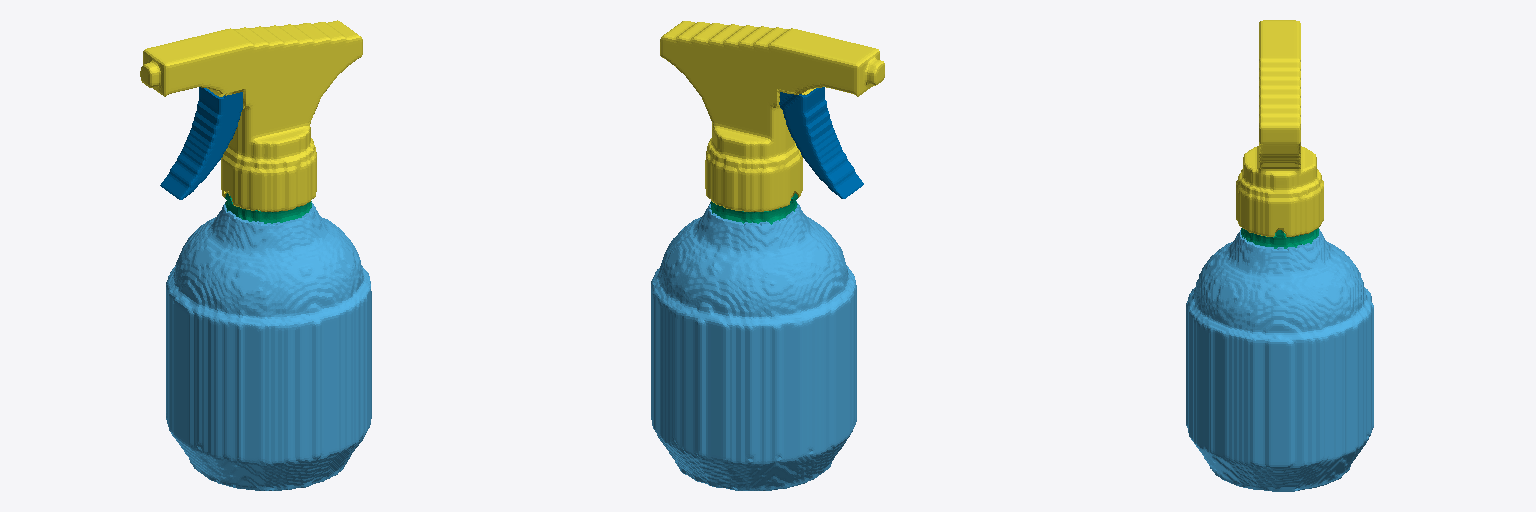
URDF robot description (object):
<?xml version='1.0' encoding='utf-8'?>
<robot name="object">
  <link name="base">
    <inertial>
      <origin xyz="0 0 0" rpy="0 0 0" />
      <mass value="0.0" />
      <inertia ixx="0" ixy="0" ixz="0" iyy="0" iyz="0" izz="0" />
    </inertial>
  </link>
  <link name="link_1">
    <visual>
      <origin xyz="0 0 0" rpy="0 0 0" />
      <geometry>
        <mesh filename="meshes/link_1.stl" />
      </geometry>
    </visual>
    <collision>
      <origin xyz="0 0 0" rpy="0 0 0" />
      <geometry>
        <mesh filename="meshes/link_1.stl" />
      </geometry>
    </collision>
    <inertial>
      <origin xyz="0.00927191101 0.00519365321 -0.294334522" rpy="0 0 0" />
      <mass value="320.751542" />
      <inertia ixx="28.2878396" ixy="-0.0024238929" ixz="0.000655347799" iyy="28.2993898" iyz="0.00242845898" izz="18.3615523" />
    </inertial>
  </link>
  <link name="link_2">
    <visual>
      <origin xyz="-0.0126322422 -0.00322829818 -0.234629657" rpy="0 0 0" />
      <geometry>
        <mesh filename="meshes/link_2.stl" />
      </geometry>
    </visual>
    <collision>
      <origin xyz="-0.0126322422 -0.00322829818 -0.234629657" rpy="0 0 0" />
      <geometry>
        <mesh filename="meshes/link_2.stl" />
      </geometry>
    </collision>
    <inertial>
      <origin xyz="-0.00313882604 0.0014547233 0.111209139" rpy="0 0 0" />
      <mass value="3.5261946" />
      <inertia ixx="-0.054600168" ixy="-0.000405301673" ixz="-0.000927668297" iyy="-0.0491562504" iyz="0.000572802463" izz="0.0363497447" />
    </inertial>
  </link>
  <link name="link_3">
    <visual>
      <origin xyz="-0.000914192882 -0.00463437579 -0.288159222" rpy="0 0 0" />
      <geometry>
        <mesh filename="meshes/link_3.stl" />
      </geometry>
    </visual>
    <collision>
      <origin xyz="-0.000914192882 -0.00463437579 -0.288159222" rpy="0 0 0" />
      <geometry>
        <mesh filename="meshes/link_3.stl" />
      </geometry>
    </collision>
    <inertial>
      <origin xyz="-0.0122739234 0.000762862601 0.721552833" rpy="0 0 0" />
      <mass value="44.1368569" />
      <inertia ixx="-21.6286972" ixy="-0.00225779096" ixz="-0.292787363" iyy="-20.6822435" iyz="-0.0196120291" izz="1.33384524" />
    </inertial>
  </link>
  <link name="link_4">
    <visual>
      <origin xyz="0.133148137 -0.00429857535 -0.754045781" rpy="0 0 0" />
      <geometry>
        <mesh filename="meshes/link_4.stl" />
      </geometry>
    </visual>
    <collision>
      <origin xyz="0.133148137 -0.00429857535 -0.754045781" rpy="0 0 0" />
      <geometry>
        <mesh filename="meshes/link_4.stl" />
      </geometry>
    </collision>
    <inertial>
      <origin xyz="-0.0313756519 -0.0037223292 -1.4922819" rpy="0 0 0" />
      <mass value="7.29812602" />
      <inertia ixx="-205.235417" ixy="-0.000248261698" ixz="1.6288114" iyy="-205.233845" iyz="-0.0134298031" izz="0.0182190285" />
    </inertial>
  </link>
  <joint name="joint_1_2" type="revolute">
    <parent link="link_1" />
    <child link="link_2" />
    <origin xyz="0.0126322422 0.00322829818 0.234629657" rpy="0 0 0" />
    <axis xyz="0.00248929231 -0.00613485982 -0.999978083" />
    <limit lower="-1.57" upper="1.57" effort="10.0" velocity="1.0" />
  </joint>
  <joint name="joint_2_3" type="prismatic">
    <parent link="link_2" />
    <child link="link_3" />
    <origin xyz="-0.0117180493 0.00140607762 0.0535295645" rpy="0 0 0" />
    <axis xyz="-0.0175181555 0.0112050161 -0.999783758" />
    <limit lower="-1.57" upper="1.57" effort="10.0" velocity="1.0" />
  </joint>
  <joint name="joint_3_4" type="revolute">
    <parent link="link_3" />
    <child link="link_4" />
    <origin xyz="-0.13406233 -0.000335800439 0.465886559" rpy="0 0 0" />
    <axis xyz="-0.00731357984 -0.99987239 0.014202626" />
    <limit lower="-1.57" upper="1.57" effort="10.0" velocity="1.0" />
  </joint>
  <joint name="base_to_1" type="fixed">
    <parent link="base" />
    <child link="link_1" />
    <origin xyz="0 0 0" rpy="0 0 0" />
  </joint>
</robot>

--- Facts derived from the render (not from the file) ---
Views: 3 orthographic renders of the robot side by side, from view 1: azimuth 30°, elevation 25°; view 2: azimuth 150°, elevation 25°; view 3: azimuth 270°, elevation 25°.
Robot: object — 5 links, 4 joints (2 revolute, 1 prismatic, 1 fixed); root link base; default pose: all joints at 0.
Links seen in each view (by area): view 1: link_1, link_3, link_4, link_2; view 2: link_1, link_3, link_4, link_2; view 3: link_1, link_3, link_2.
Boxes of the visible links, <box> form: link_1: <box>166,202,371,490</box>; link_3: <box>140,20,362,211</box>; link_4: <box>160,87,242,199</box>; link_2: <box>225,193,311,223</box>; link_1: <box>651,201,856,490</box>; link_3: <box>660,21,884,211</box>; link_4: <box>779,87,863,198</box>; link_2: <box>710,193,797,224</box>; link_1: <box>1186,229,1373,491</box>; link_3: <box>1236,20,1323,236</box>; link_2: <box>1241,228,1318,248</box>.
Size in the robot's own frame: 0.8603 by 0.7197 by 1.65 metres.
Meshes: 4 distinct files referenced, 4 mesh visuals loaded (4 binary STL).
